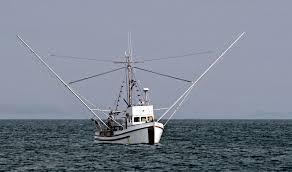fishing boat: (13, 22, 249, 147)
